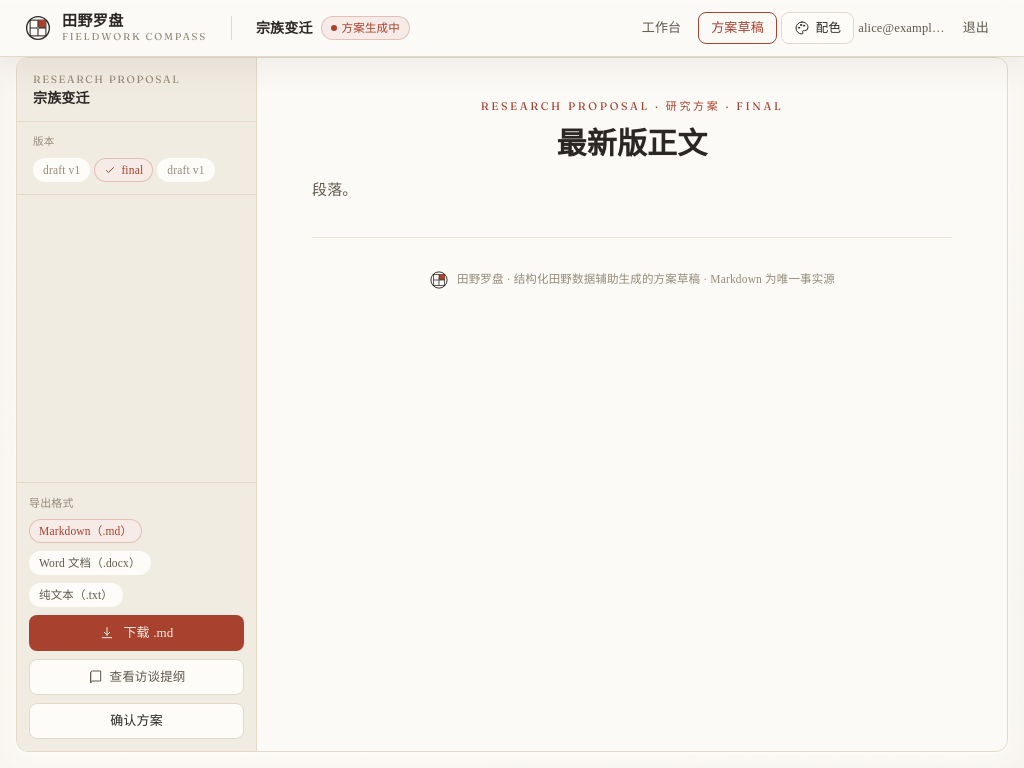
Scenario: ProposalView 身份作用域与请求代次（R03/R04） › R03：确认遇 401 session_expired → 会话清理与私有正文退出同步发生，并给重登入口
Expected: the heading "最新版正文" is shown, top-left (557, 126), bottom-right (707, 160)
Click the button "确认方案". click: point(136, 721)
box: top-left (29, 703), bottom-right (244, 739)
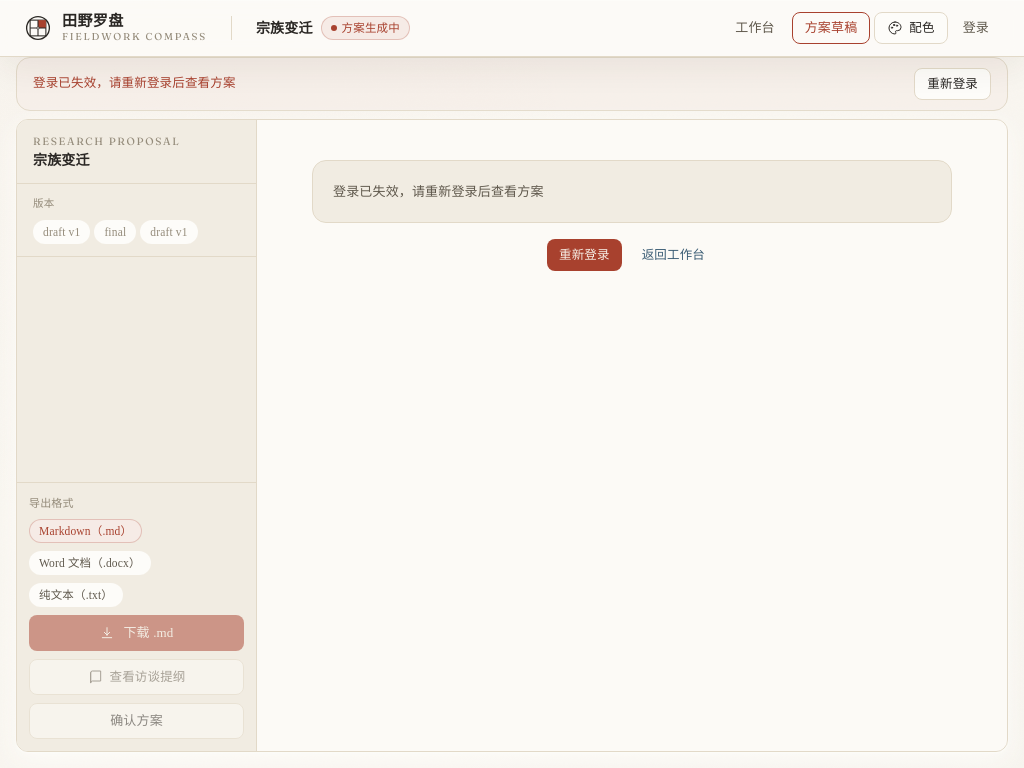
Now the heading "最新版正文" is gone
Now the text "最新版正文" is gone
Now the text "段落" is gone
